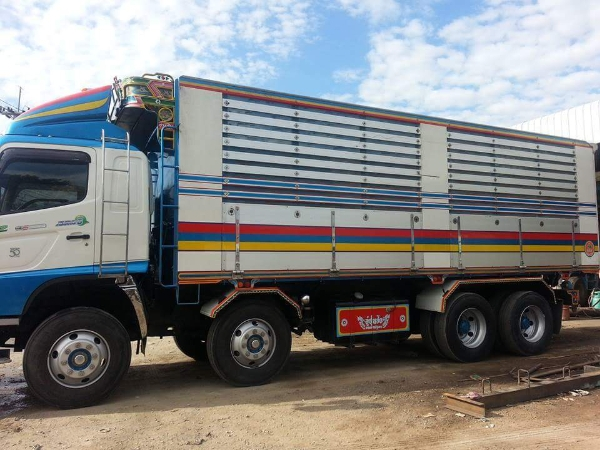truck: (3, 73, 599, 409)
